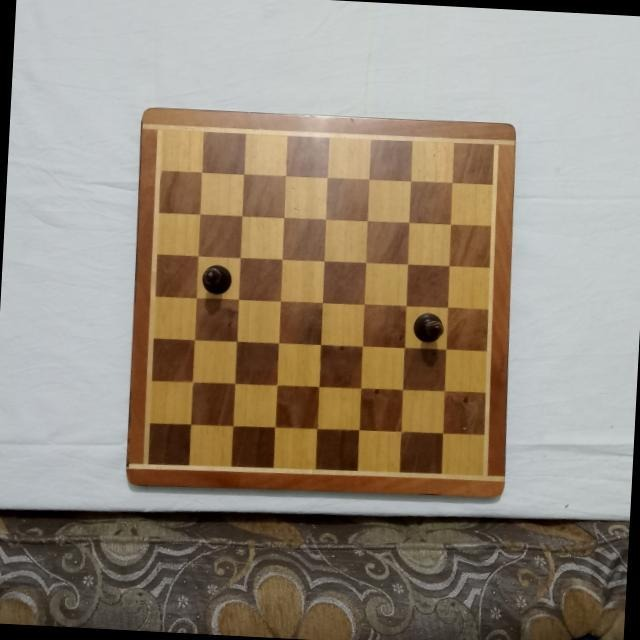black-bishop: (413, 308, 447, 344), (202, 262, 234, 294)
